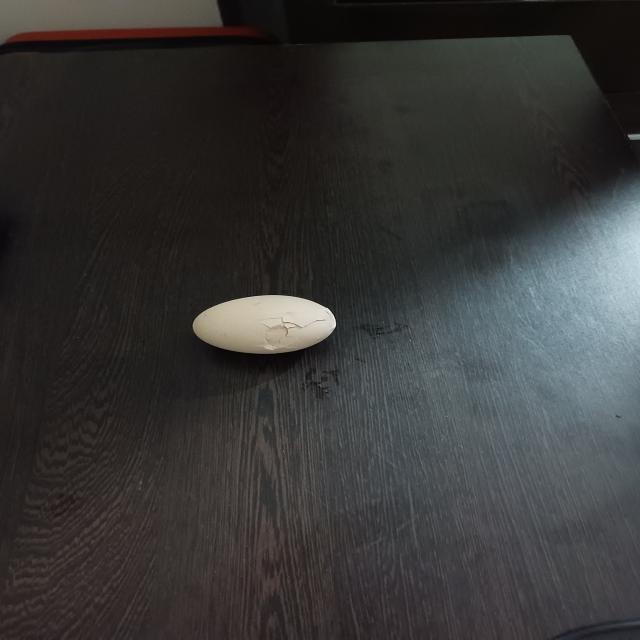biodegradable: (185, 295, 342, 359)
